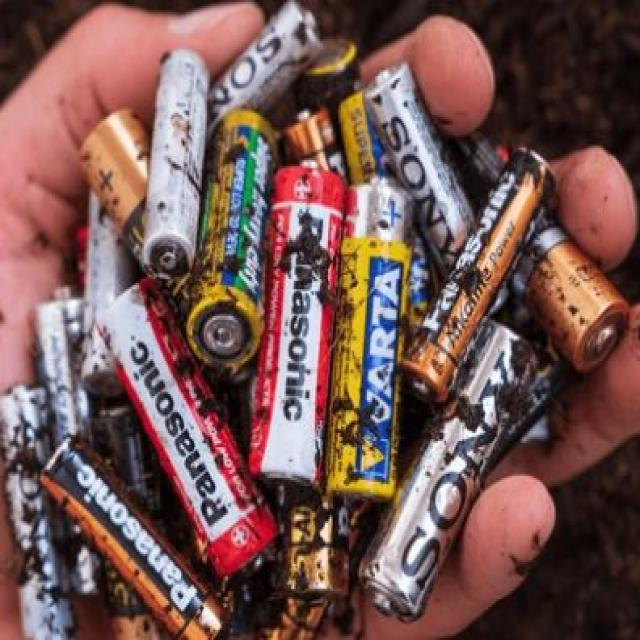electronic: (178, 96, 286, 387)
